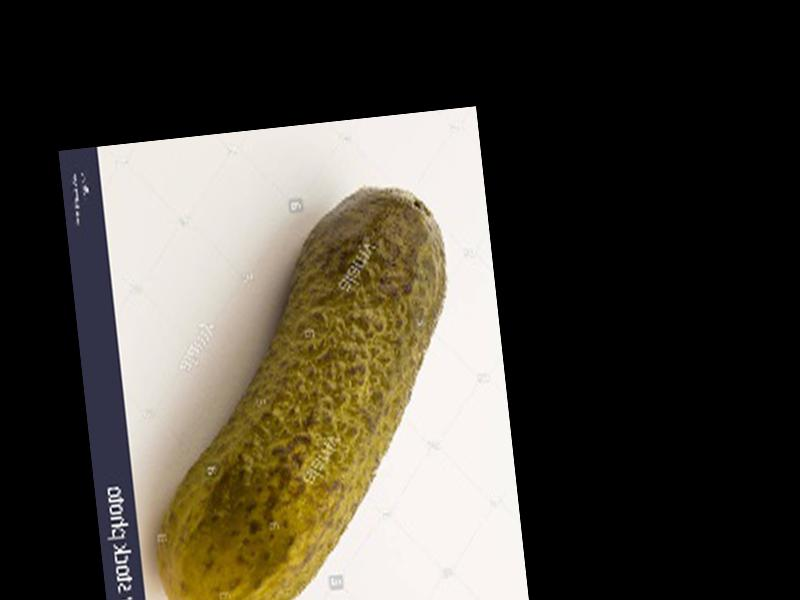Cucumber: (122, 182, 481, 600)
